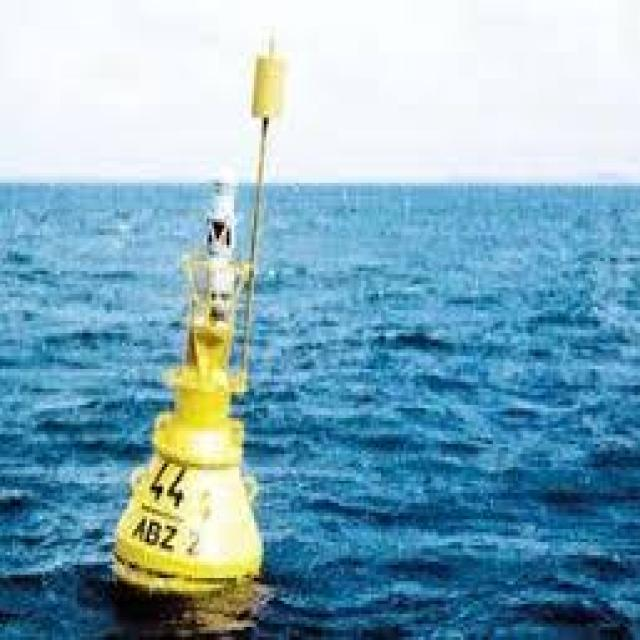buoy: (90, 14, 309, 599)
